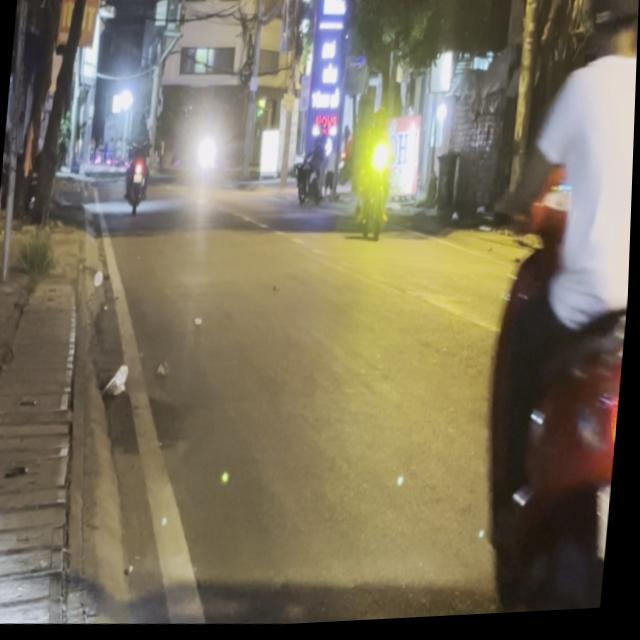helmet: (586, 0, 640, 64)
licenseplate: (462, 0, 640, 620)
nohelmet: (598, 489, 615, 568)
